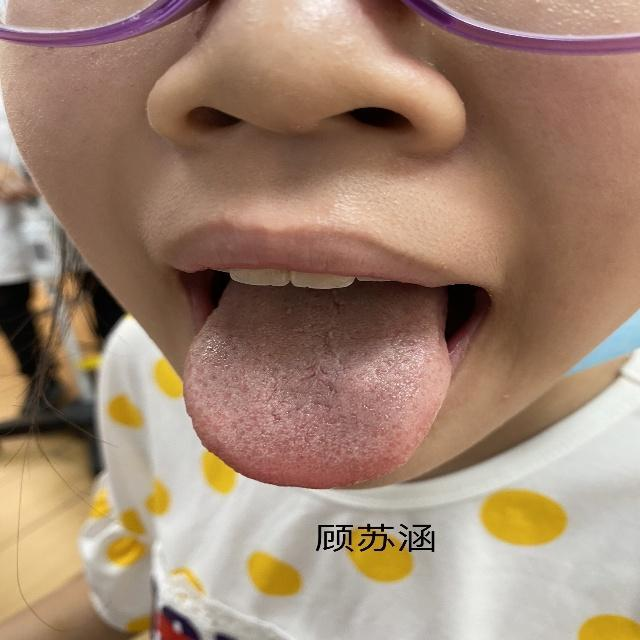baitaishe: (182, 293, 452, 490)
